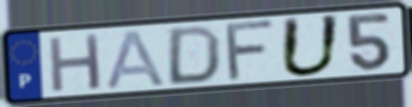5: (344, 12, 394, 74)
A: (103, 27, 169, 91)
D: (165, 23, 224, 87)
F: (225, 17, 280, 84)
H: (46, 31, 104, 95)
U: (277, 13, 344, 80)
